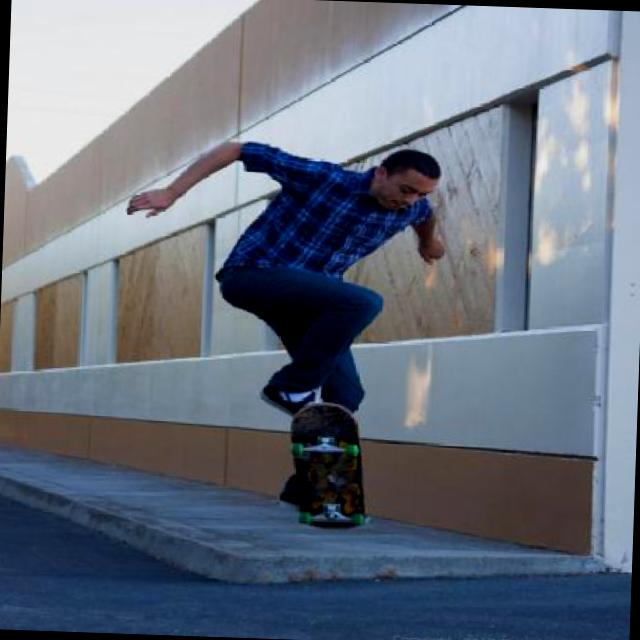Person: (120, 138, 455, 422)
